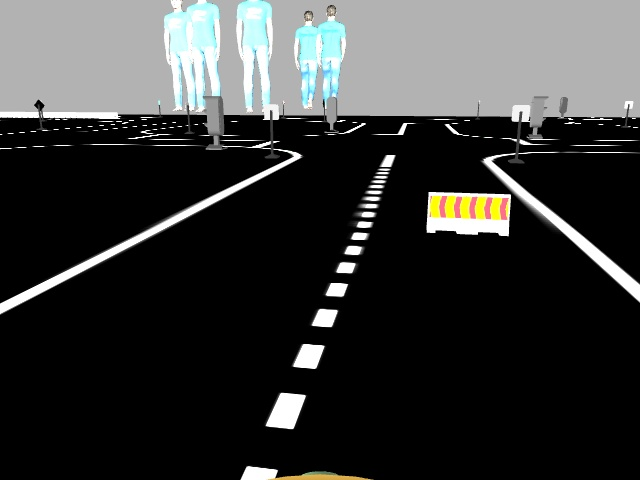ClosedRoadStand: (427, 191, 509, 234)
